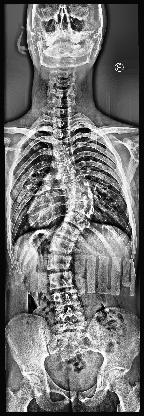Vertebrae: (56, 307, 86, 323), (48, 272, 74, 290), (62, 211, 90, 227), (53, 292, 81, 308), (57, 322, 85, 338), (67, 200, 93, 216), (46, 254, 72, 270), (49, 239, 77, 253), (56, 224, 83, 238), (66, 189, 90, 203), (63, 181, 84, 193), (60, 171, 80, 183), (52, 139, 70, 151), (56, 161, 76, 171), (52, 127, 70, 138), (52, 118, 70, 128), (53, 152, 71, 162)
